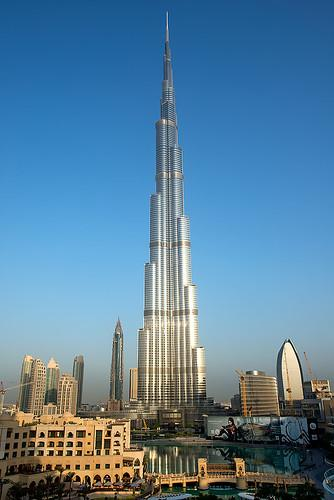building: (130, 52, 210, 406), (274, 336, 306, 410), (108, 316, 126, 409), (54, 368, 80, 424)
